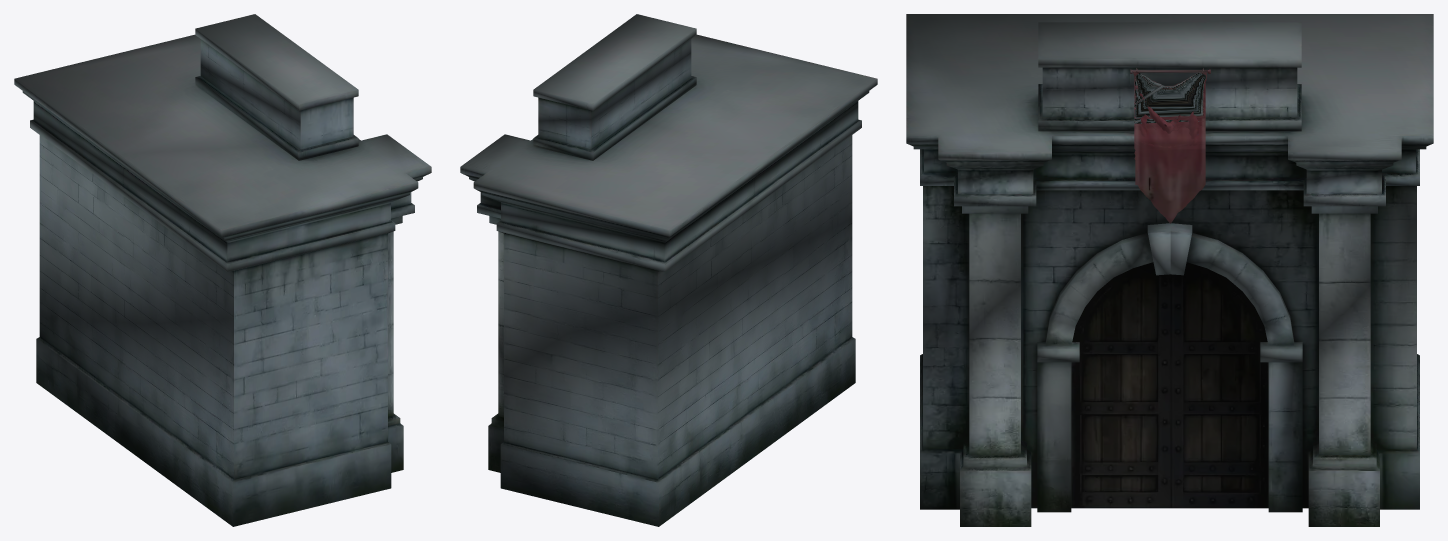
File: gate.glb
3 renders of one model, left to right at view 1: azimuth 30°, elevation 25°; view 2: azimuth 150°, elevation 25°; view 3: azimuth 270°, elevation 25°, orthographic. The views are drawn at different scales.
Parts seen in each view (by area): view 1: model; view 2: model; view 3: model.
Boxes of the visible parts, x1=… form: model: x1=14, y1=14, x2=431, y2=526; model: x1=460, y1=14, x2=877, y2=526; model: x1=906, y1=14, x2=1433, y2=526.
Bounding box in the file's own units: 0.6456 × 1 × 1.04.
1 material, 1 textured.
